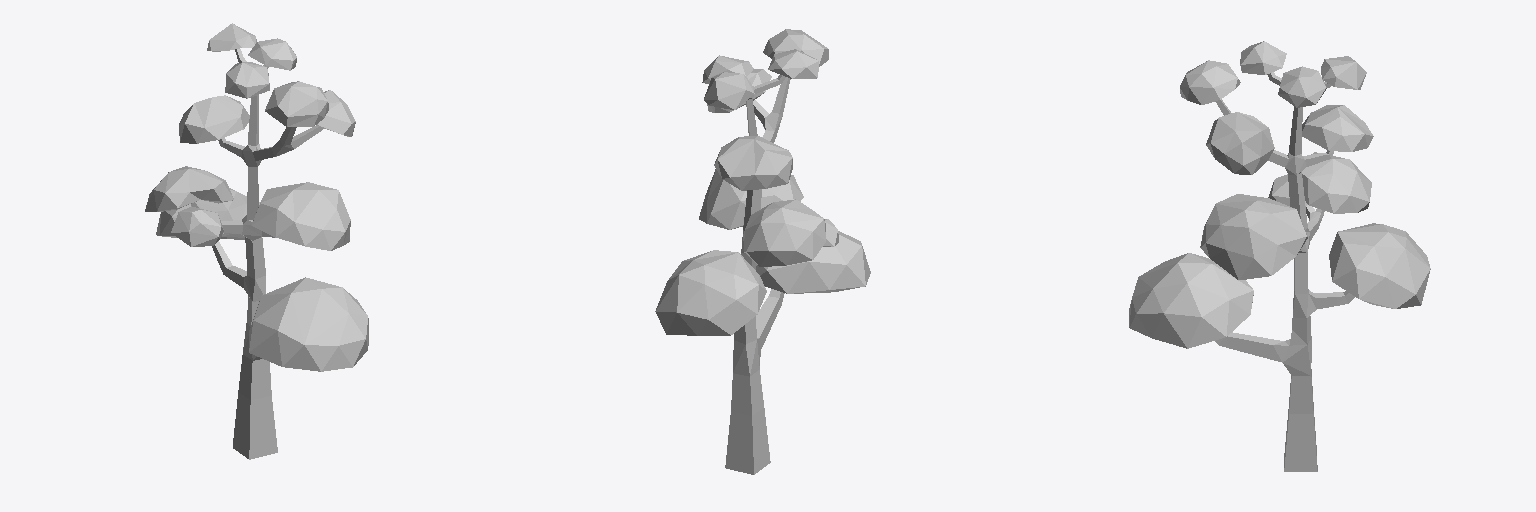
File: cap_tree3.obj
The picture shows the model from 3 angles: view 1: azimuth 30°, elevation 25°; view 2: azimuth 150°, elevation 25°; view 3: azimuth 270°, elevation 25°; orthographic projection.
Parts seen in each view (by area): view 1: Tree6_1_Cube.041; view 2: Tree6_1_Cube.041; view 3: Tree6_1_Cube.041.
Part boxes in pixels (x1,y1,x2,y2): Tree6_1_Cube.041: (145,23,368,459); Tree6_1_Cube.041: (655,29,870,474); Tree6_1_Cube.041: (1129,41,1430,471).
Size of the model in its own units: 4.65 by 11.55 by 7.72.